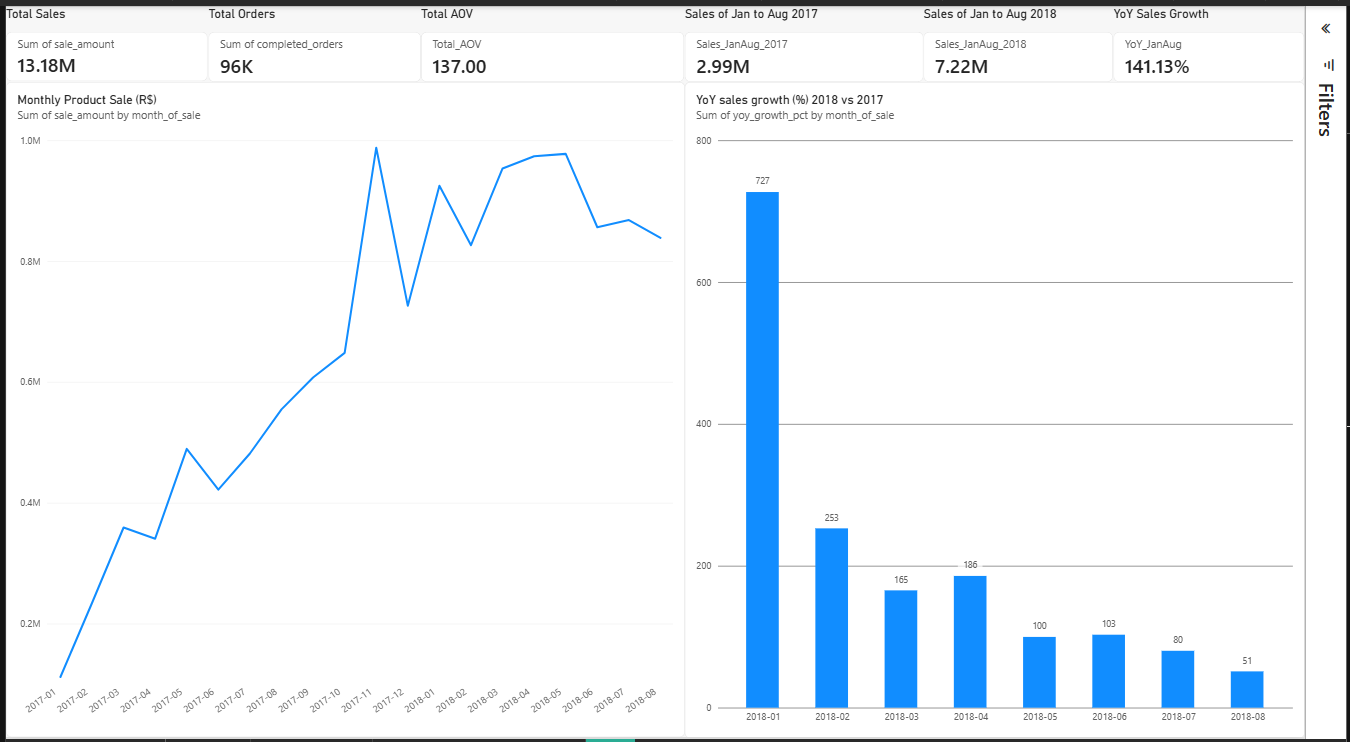

The page's visual inventory and layout, read from the dashboard file:
{"tool":"powerbi","page":{"name":"Sales","canvas":[1920,1080],"ordinal":0},"visuals":[{"type":"lineChart","title":"Monthly Product Sale (R$)","fields":{"Category":["public vw_monthly_sales.month_of_sale"],"Y":["Sum(public vw_monthly_sales.sale_amount)"]},"box":[0,110.9,1003.6,968.5],"z":0},{"type":"cardVisual","title":"Total Sales","fields":{"Data":["Sum(public vw_monthly_sales.sale_amount)"]},"box":[0,0,298.6,110.4],"z":1000},{"type":"cardVisual","title":"Total Orders","fields":{"Data":["Sum(public vw_monthly_sales.completed_orders)"]},"box":[299.4,0,314.2,110.9],"z":2000},{"type":"cardVisual","title":"Total AOV","fields":{"Data":["public vw_monthly_sales.Total_AOV"]},"box":[613.6,0,390,110.9],"z":3000},{"type":"lineClusteredColumnComboChart","title":"YoY sales growth (%) 2018 vs 2017","fields":{"Category":["public vw_monthly_yoy.month_of_sale"],"Y":["Sum(public vw_monthly_yoy.yoy_growth_pct)"]},"box":[1003.6,110.9,916.8,970.4],"z":4000},{"type":"cardVisual","title":"Sales of Jan to Aug 2017","fields":{"Data":["public vw_monthly_yoy.Sales_JanAug_2017"]},"box":[1003.6,0,353,110.9],"z":5000},{"type":"cardVisual","title":"Sales of Jan to Aug 2018","fields":{"Data":["public vw_monthly_yoy.Sales_JanAug_2018"]},"box":[1356.6,0,280.9,110.9],"z":6000},{"type":"cardVisual","title":"YoY Sales Growth","fields":{"Data":["public vw_monthly_yoy.YoY_JanAug"]},"box":[1637.6,0,282.8,110.9],"z":7000}]}

Visuals, with their boxes on the page's 1920x1080 design canvas (x1, y1, x2, y2). These are canvas units, not pixel positions in the 1350x742 screenshot, which may show the page scaled, cropped or inside an application window:
"Monthly Product Sale (R$)" lineChart: (0,111,1004,1079)
"Total Sales" cardVisual: (0,0,299,110)
"Total Orders" cardVisual: (299,0,614,111)
"Total AOV" cardVisual: (614,0,1004,111)
"YoY sales growth (%) 2018 vs 2017" lineClusteredColumnComboChart: (1004,111,1920,1081)
"Sales of Jan to Aug 2017" cardVisual: (1004,0,1357,111)
"Sales of Jan to Aug 2018" cardVisual: (1357,0,1638,111)
"YoY Sales Growth" cardVisual: (1638,0,1920,111)
